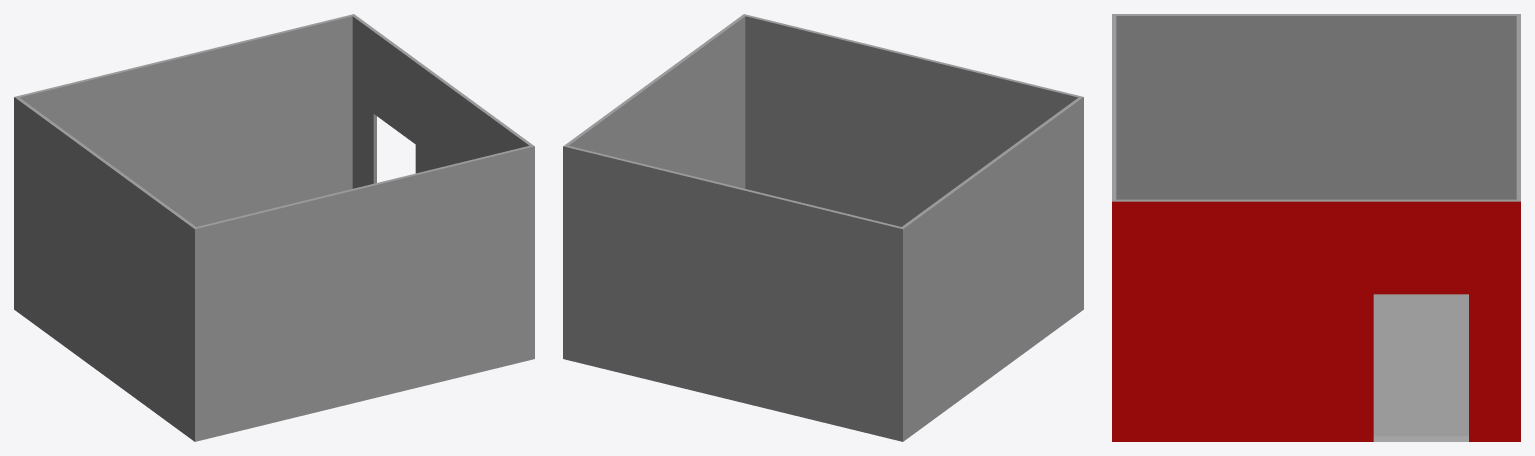
Rendered from room1.fbx.
3 views of the same model, side by side, from view 1: azimuth 30°, elevation 25°; view 2: azimuth 150°, elevation 25°; view 3: azimuth 270°, elevation 25° (orthographic). The views are drawn at different scales.
Visible parts, largest first — view 1: room1; view 2: room1; view 3: room1.
Part boxes in pixels (x1,y1,x2,y2): room1: (14, 14, 534, 441); room1: (563, 14, 1083, 441); room1: (1112, 14, 1520, 441).
Bounding box in the file's own units: 5.1 × 3.05 × 4.7.
